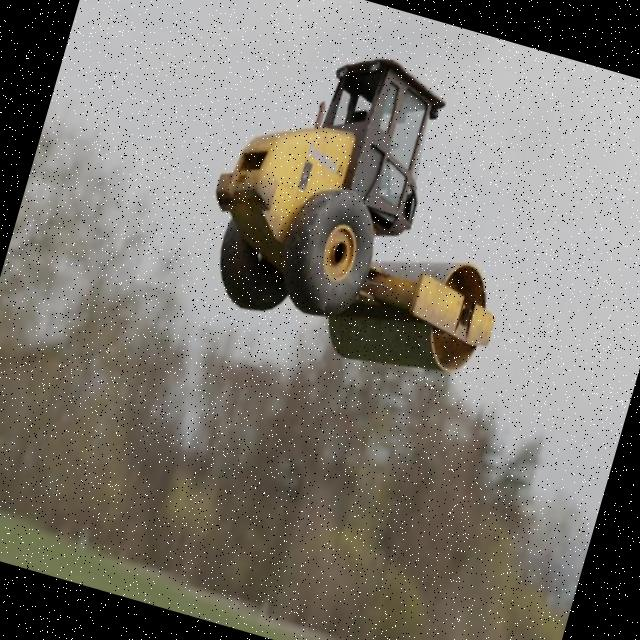Roller: (180, 22, 556, 394)
